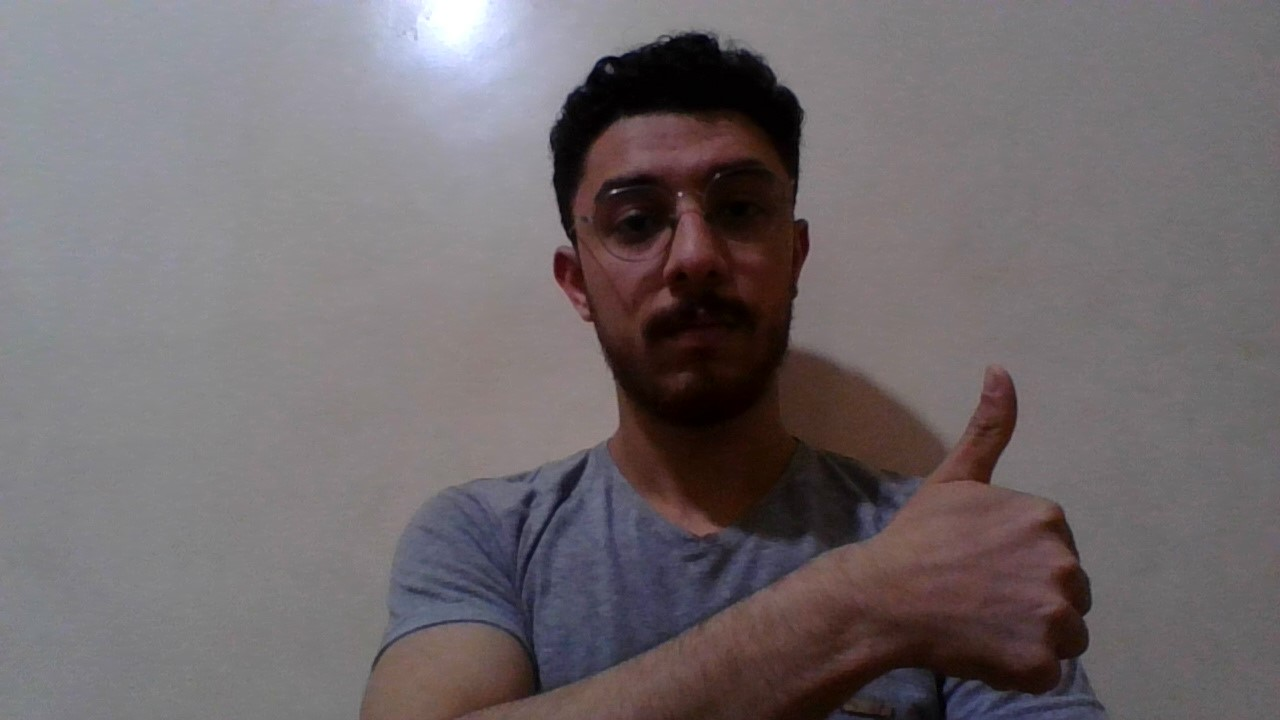Yes: (816, 354, 1128, 698)
